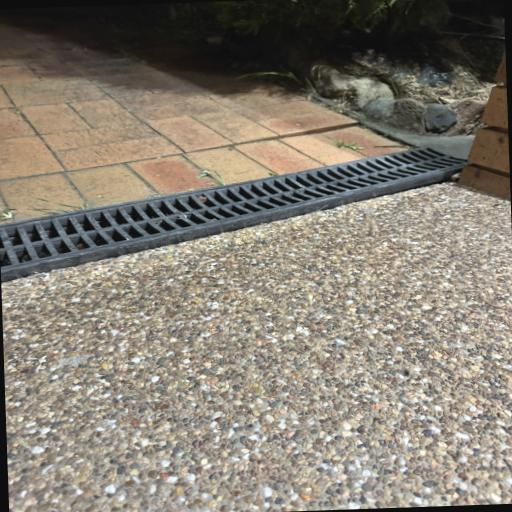gutter: (0, 147, 463, 280)
